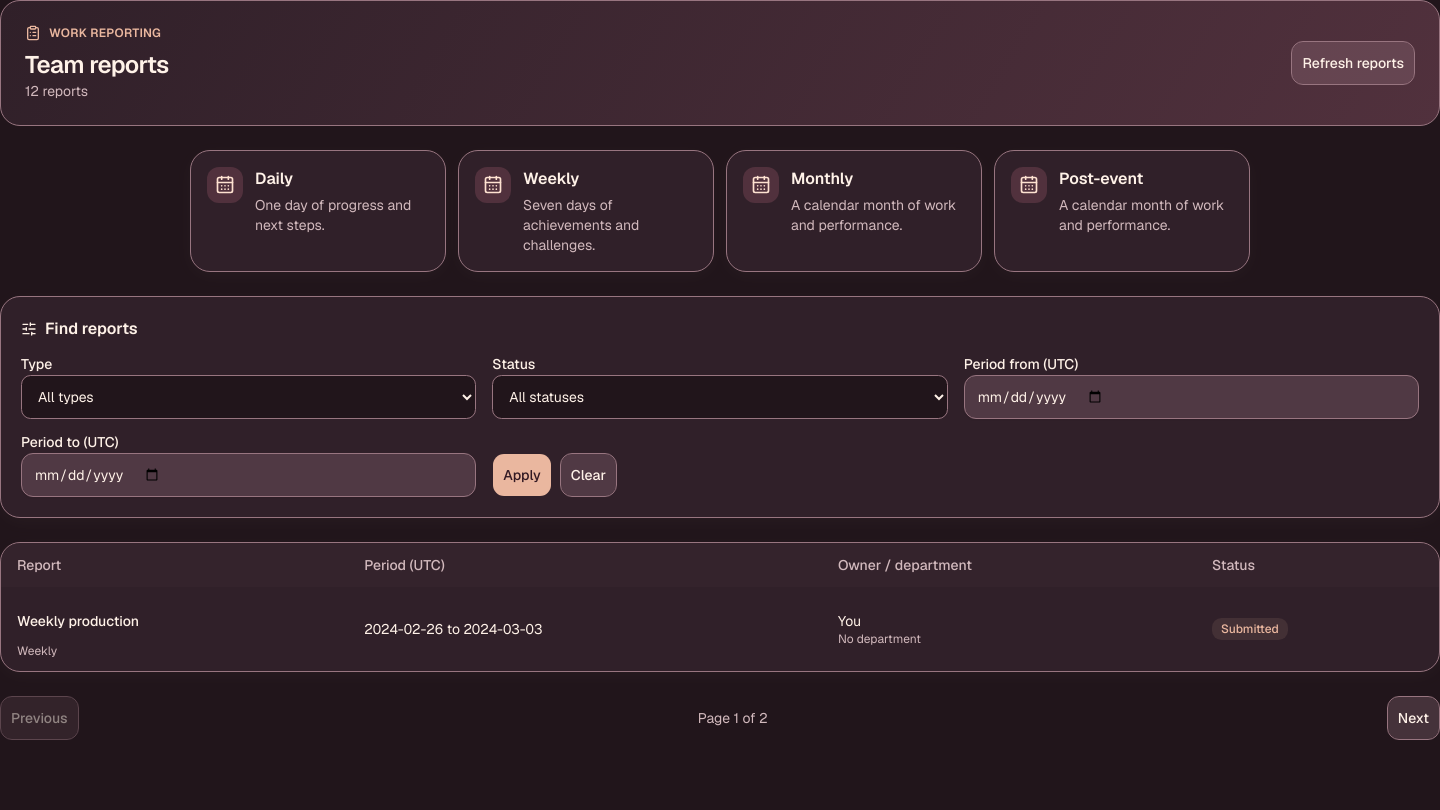
ReportsManager › uses server-filtered pages and refreshes detail independently
This screenshot has width=1440, height=810.
Expected: the text "12 reports" is shown, x1=25 y1=82 x2=88 y2=100
Select "Weekly" in the dropdown labelled "Type": (249, 397) x1=21 y1=375 x2=476 y2=419
Select "Submitted" in the dropdown labelled "Status": (720, 397) x1=492 y1=375 x2=948 y2=419
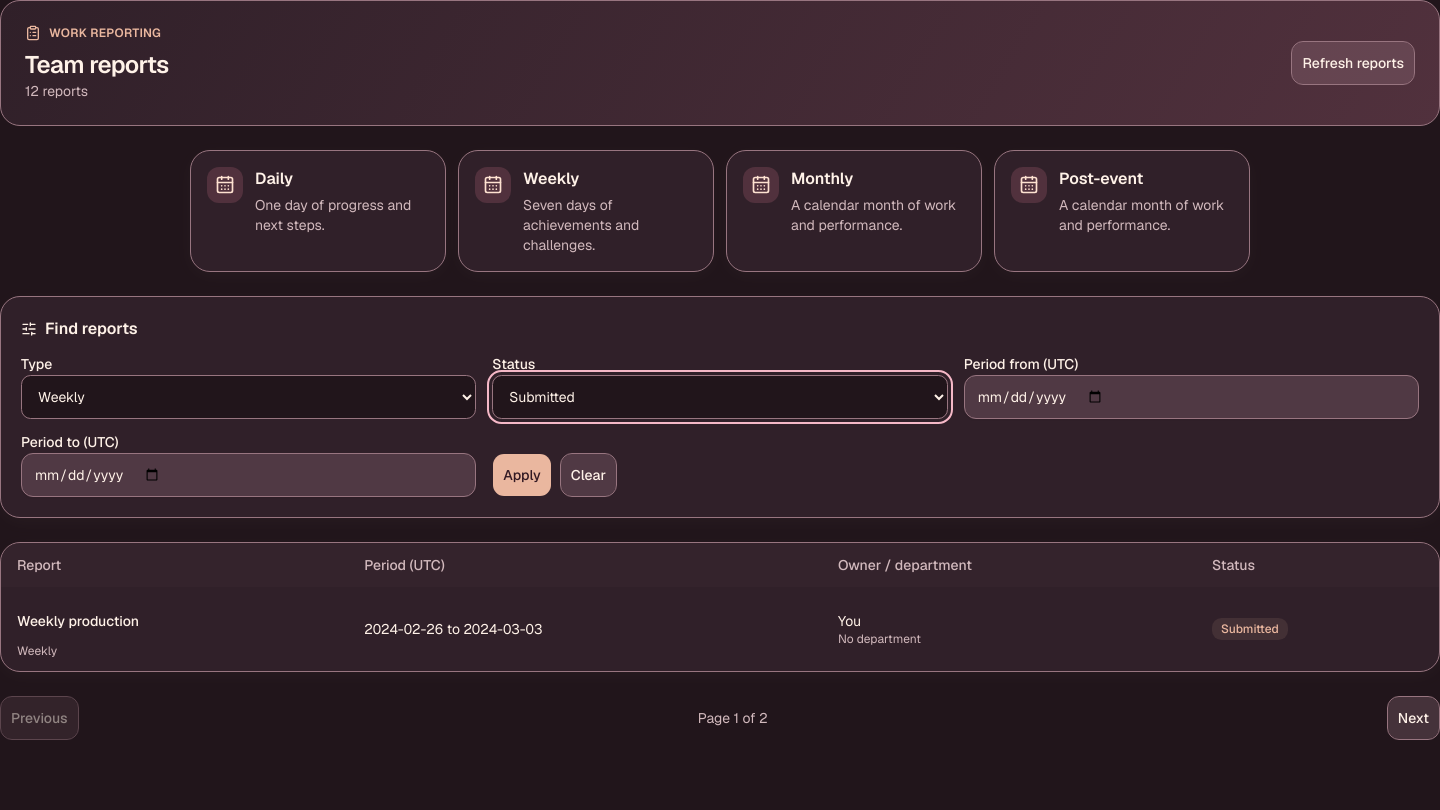
In the date field labelled "Period from (UTC)": (1191, 397) x1=964 y1=375 x2=1419 y2=419, type "2024-02-01"
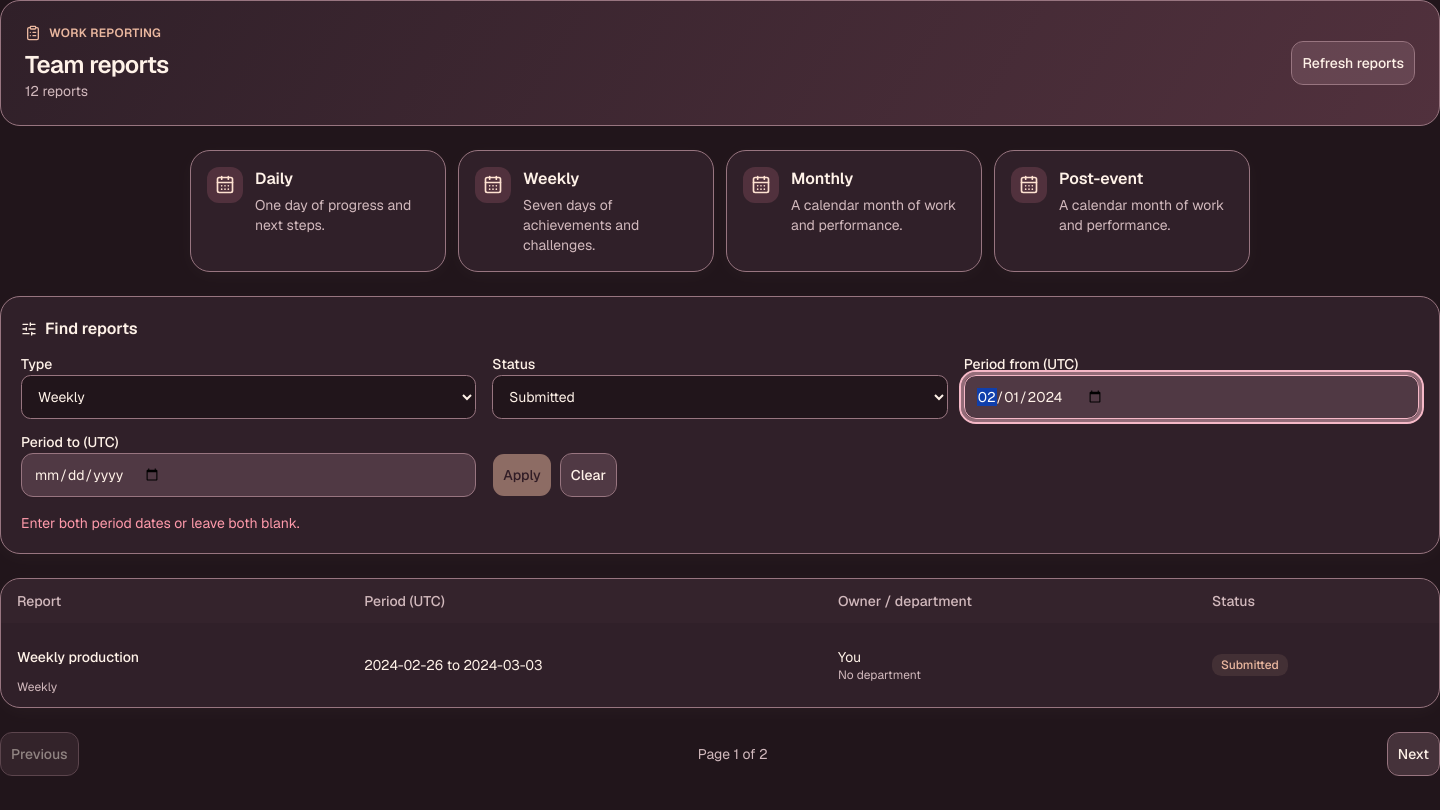
In the date field labelled "Period to (UTC)": (249, 475) x1=21 y1=453 x2=476 y2=497, type "2024-03-01"
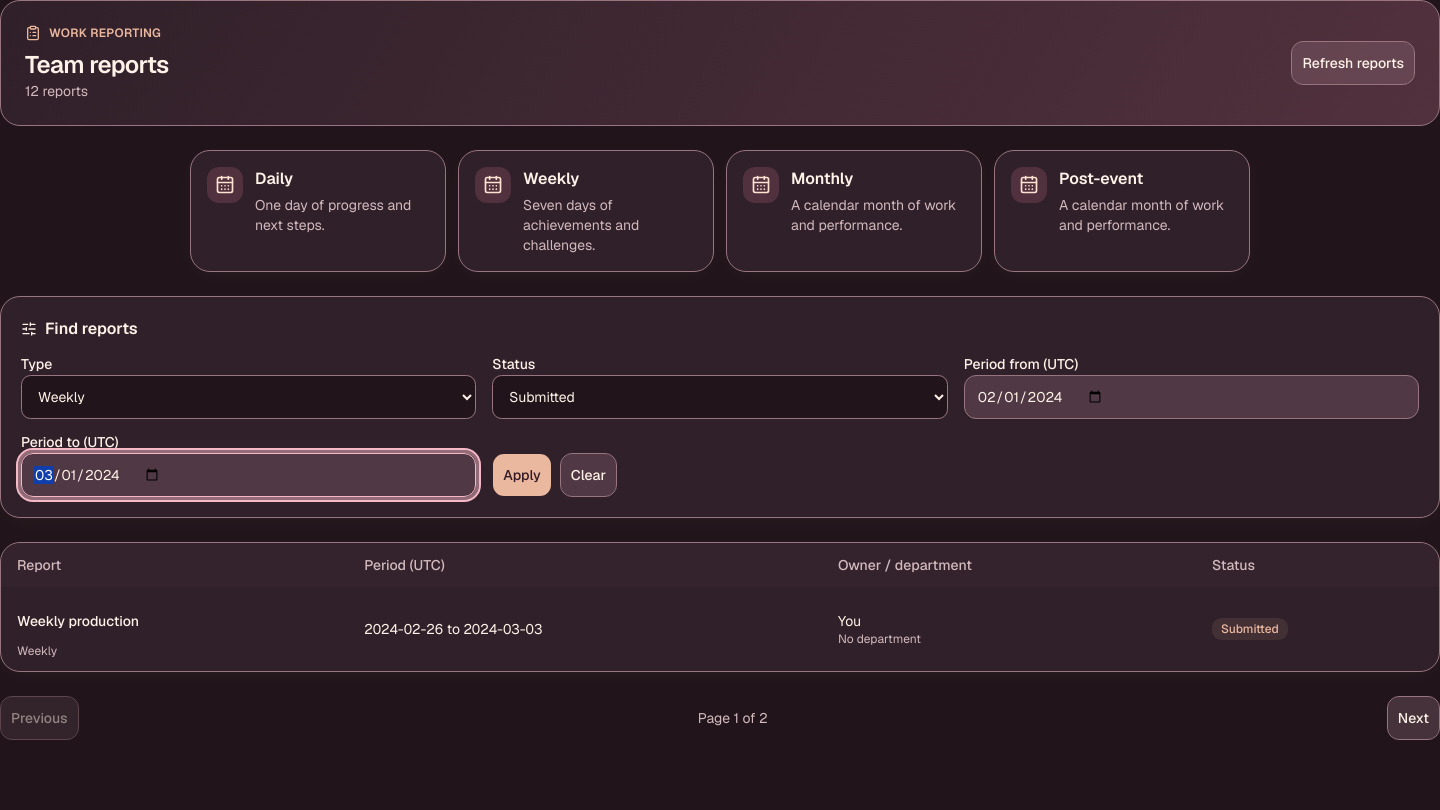
Click the button "Apply": (522, 475) x1=492 y1=453 x2=552 y2=497
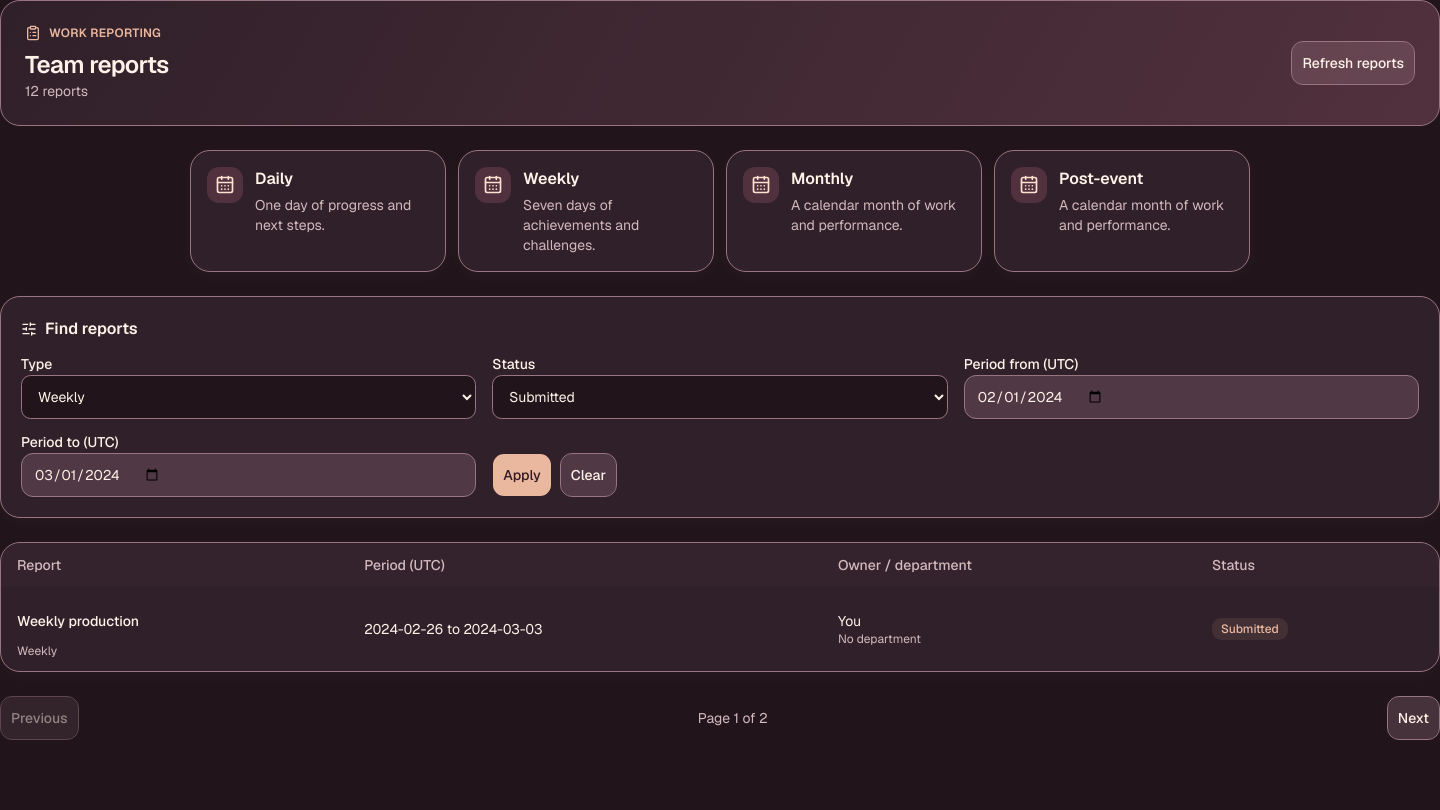
Click the button "Next": (1413, 718) x1=1387 y1=696 x2=1439 y2=740
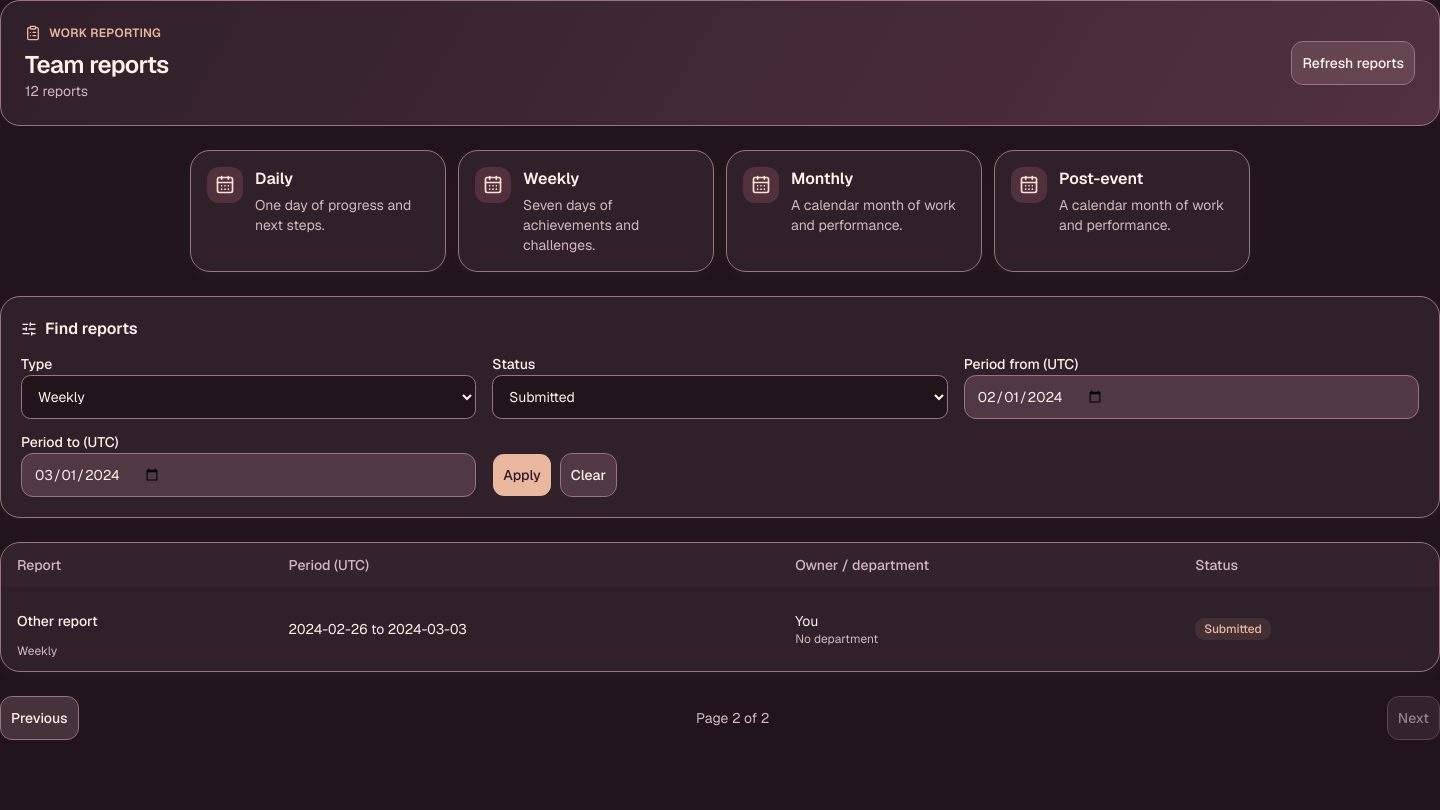
Click the button "Other report": (57, 621) x1=17 y1=599 x2=98 y2=643
(page scrolled)
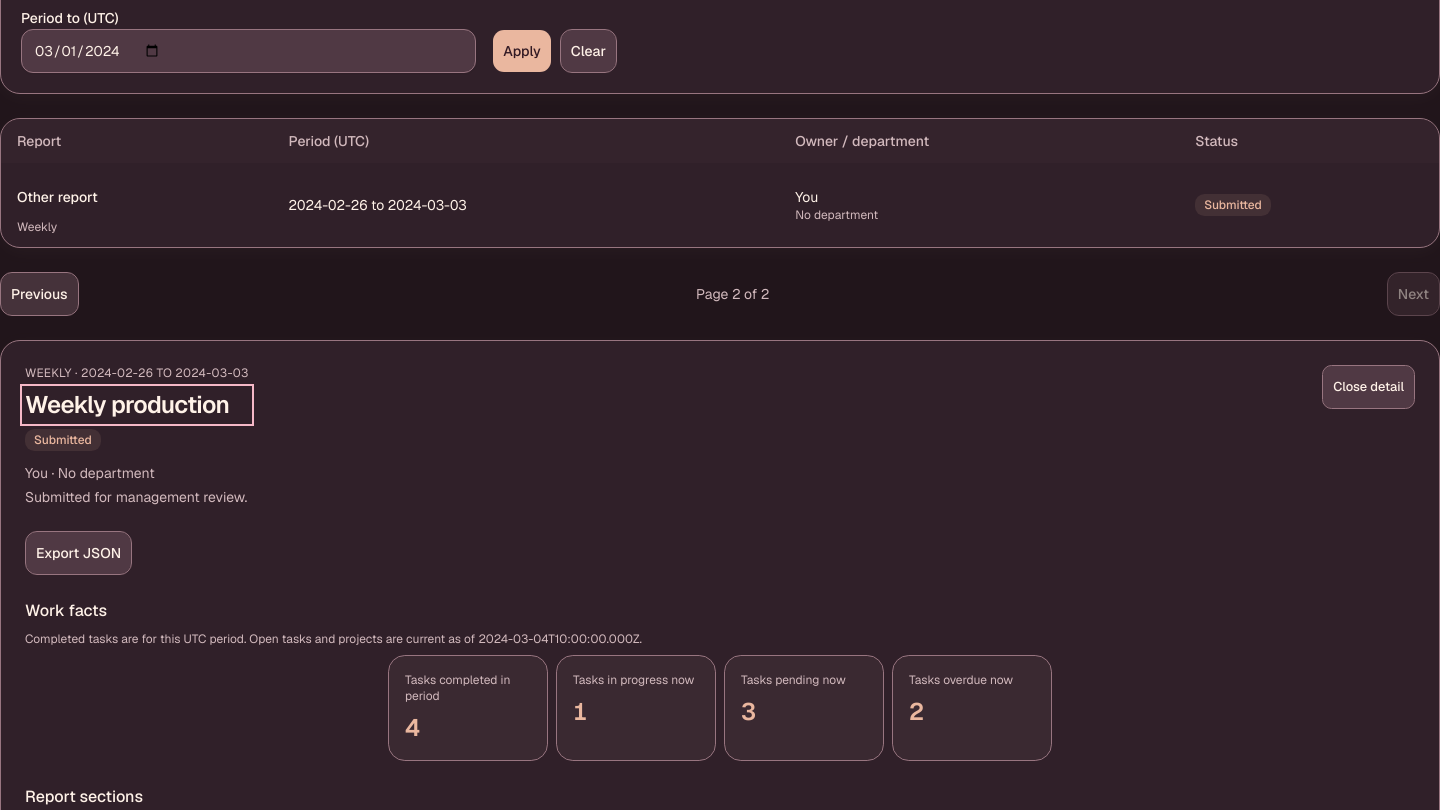
Result: the heading "Work facts" is shown at x1=25 y1=600 x2=107 y2=621
